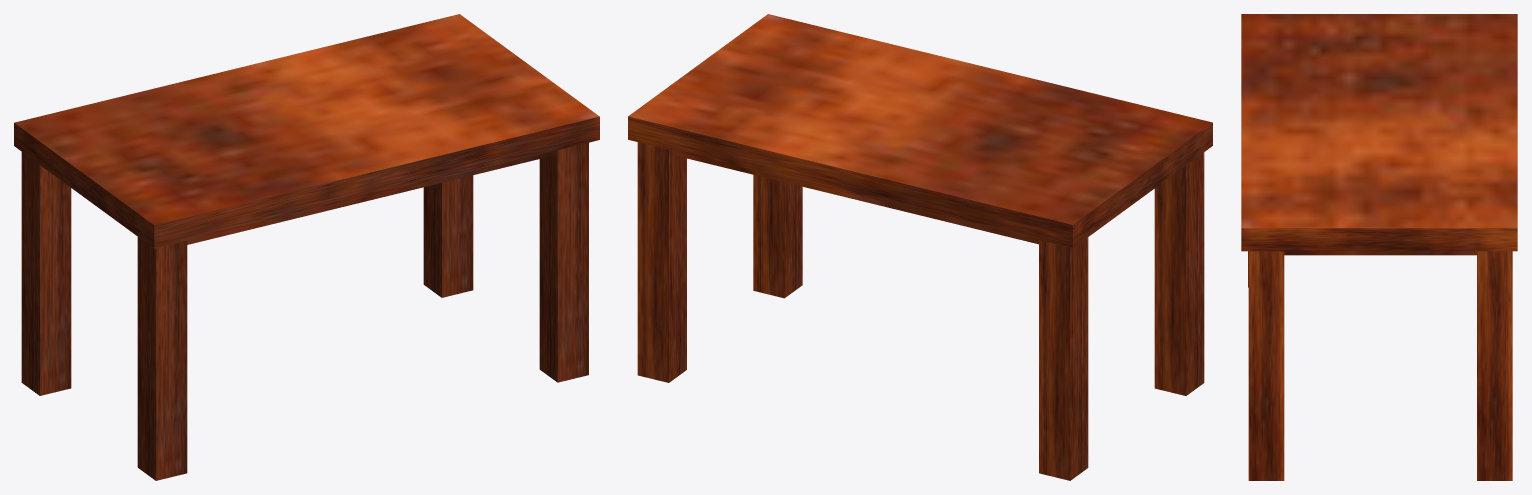
File: rooms1table.fbx
3 views of the same model, side by side, from view 1: azimuth 30°, elevation 25°; view 2: azimuth 150°, elevation 25°; view 3: azimuth 270°, elevation 25° (orthographic).
Parts seen in each view (by area): view 1: Table; view 2: Table; view 3: Table.
Part boxes in pixels (bbox=[...]): Table: bbox=[14, 14, 599, 480]; Table: bbox=[628, 14, 1212, 480]; Table: bbox=[1241, 14, 1517, 480].
Bounding box in the file's own units: 462 × 257 × 252.
